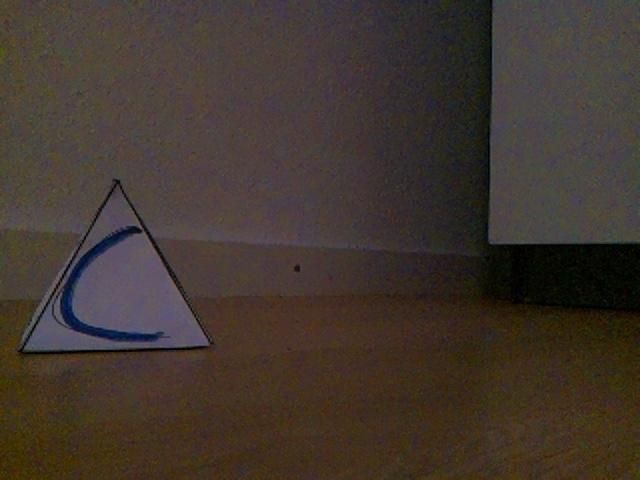C: (27, 178, 214, 353)
